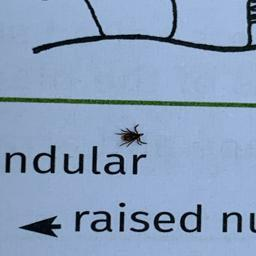Ixodes scapularis: (116, 127, 147, 147)
